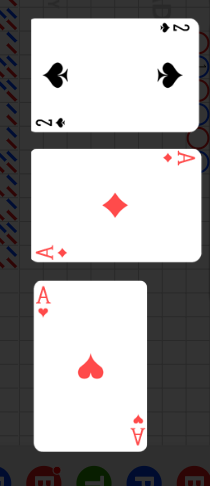2S: (35, 116, 68, 129)
AH: (36, 285, 53, 320), (129, 411, 145, 447)
